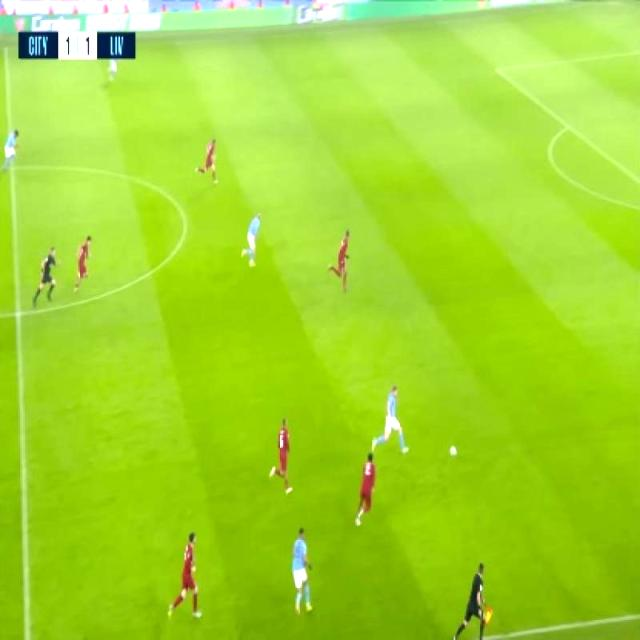bigarea_top_inner: (486, 56, 506, 82)
halfcircle_bottom: (4, 295, 30, 330)
halfcircle_top: (2, 155, 18, 175)
midline_top_intersection: (0, 36, 13, 62)
top_arc_area_intersection: (558, 114, 577, 136)
